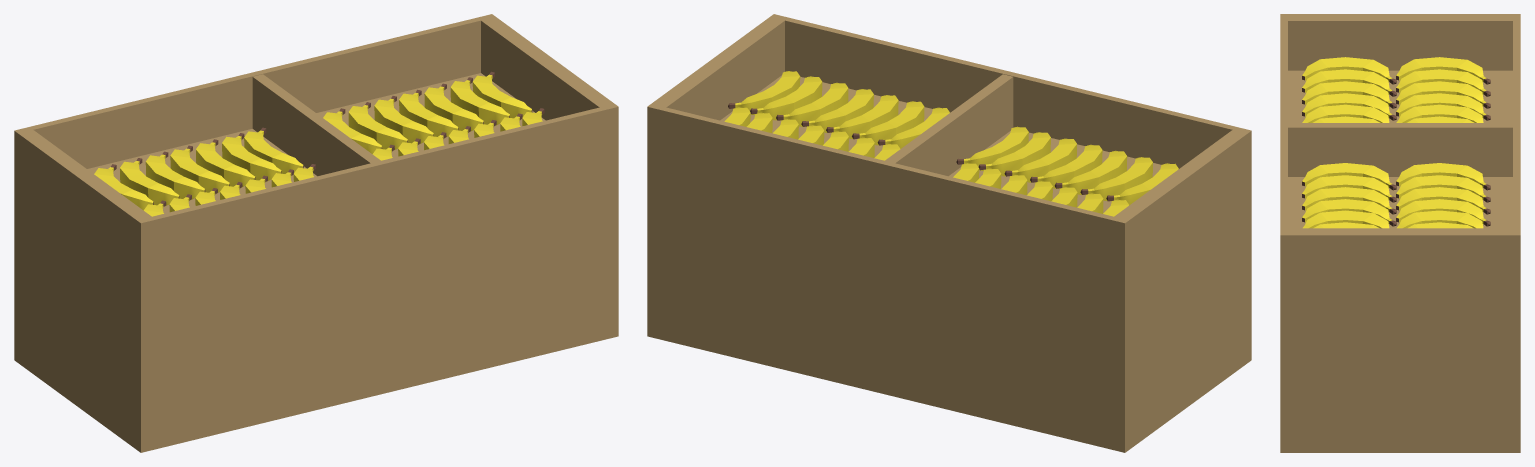
File: banana_box.gltf
3 views of the same model, side by side, from view 1: azimuth 30°, elevation 25°; view 2: azimuth 150°, elevation 25°; view 3: azimuth 270°, elevation 25° (orthographic). The views are drawn at different scales.
Parts seen in each view (by area): view 1: Cube.001; view 2: Cube.001; view 3: Cube.001.
Part boxes in pixels (bbox=[...]): Cube.001: bbox=[14, 14, 618, 452]; Cube.001: bbox=[647, 14, 1251, 452]; Cube.001: bbox=[1280, 14, 1520, 452].
Size of the model in its own units: 9.22 by 4.23 by 4.23.
